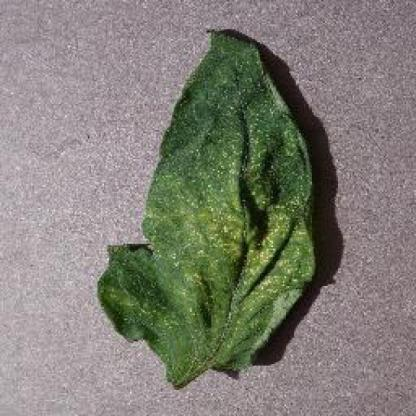Tomato_Spider_Mites: (100, 31, 313, 387)
